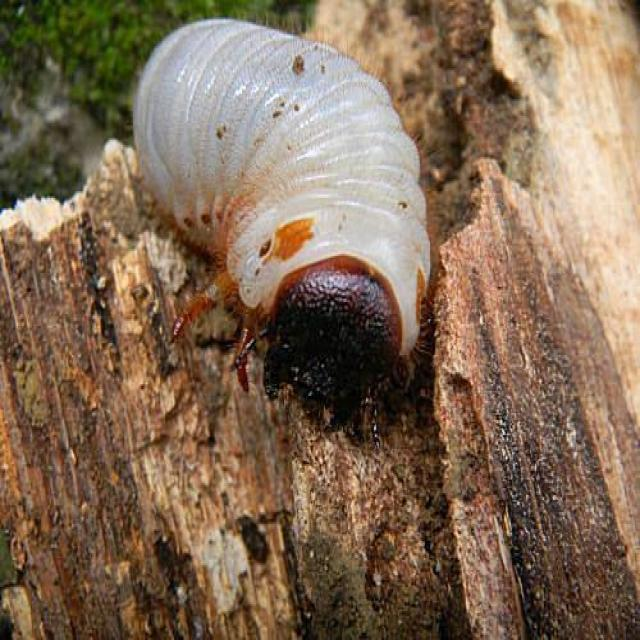Grub-Adult-: (93, 9, 460, 433)
